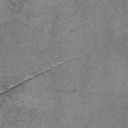finishing roll printing: (0, 54, 88, 96)
